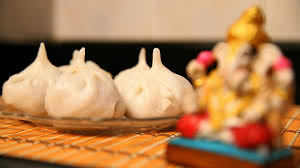modak: (117, 48, 186, 118), (4, 40, 55, 107), (56, 59, 107, 120)
